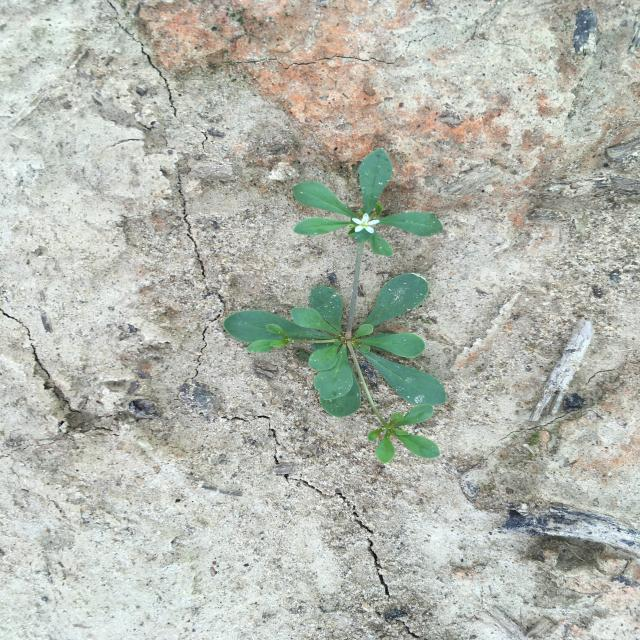Carpetweed: (223, 148, 447, 464)
